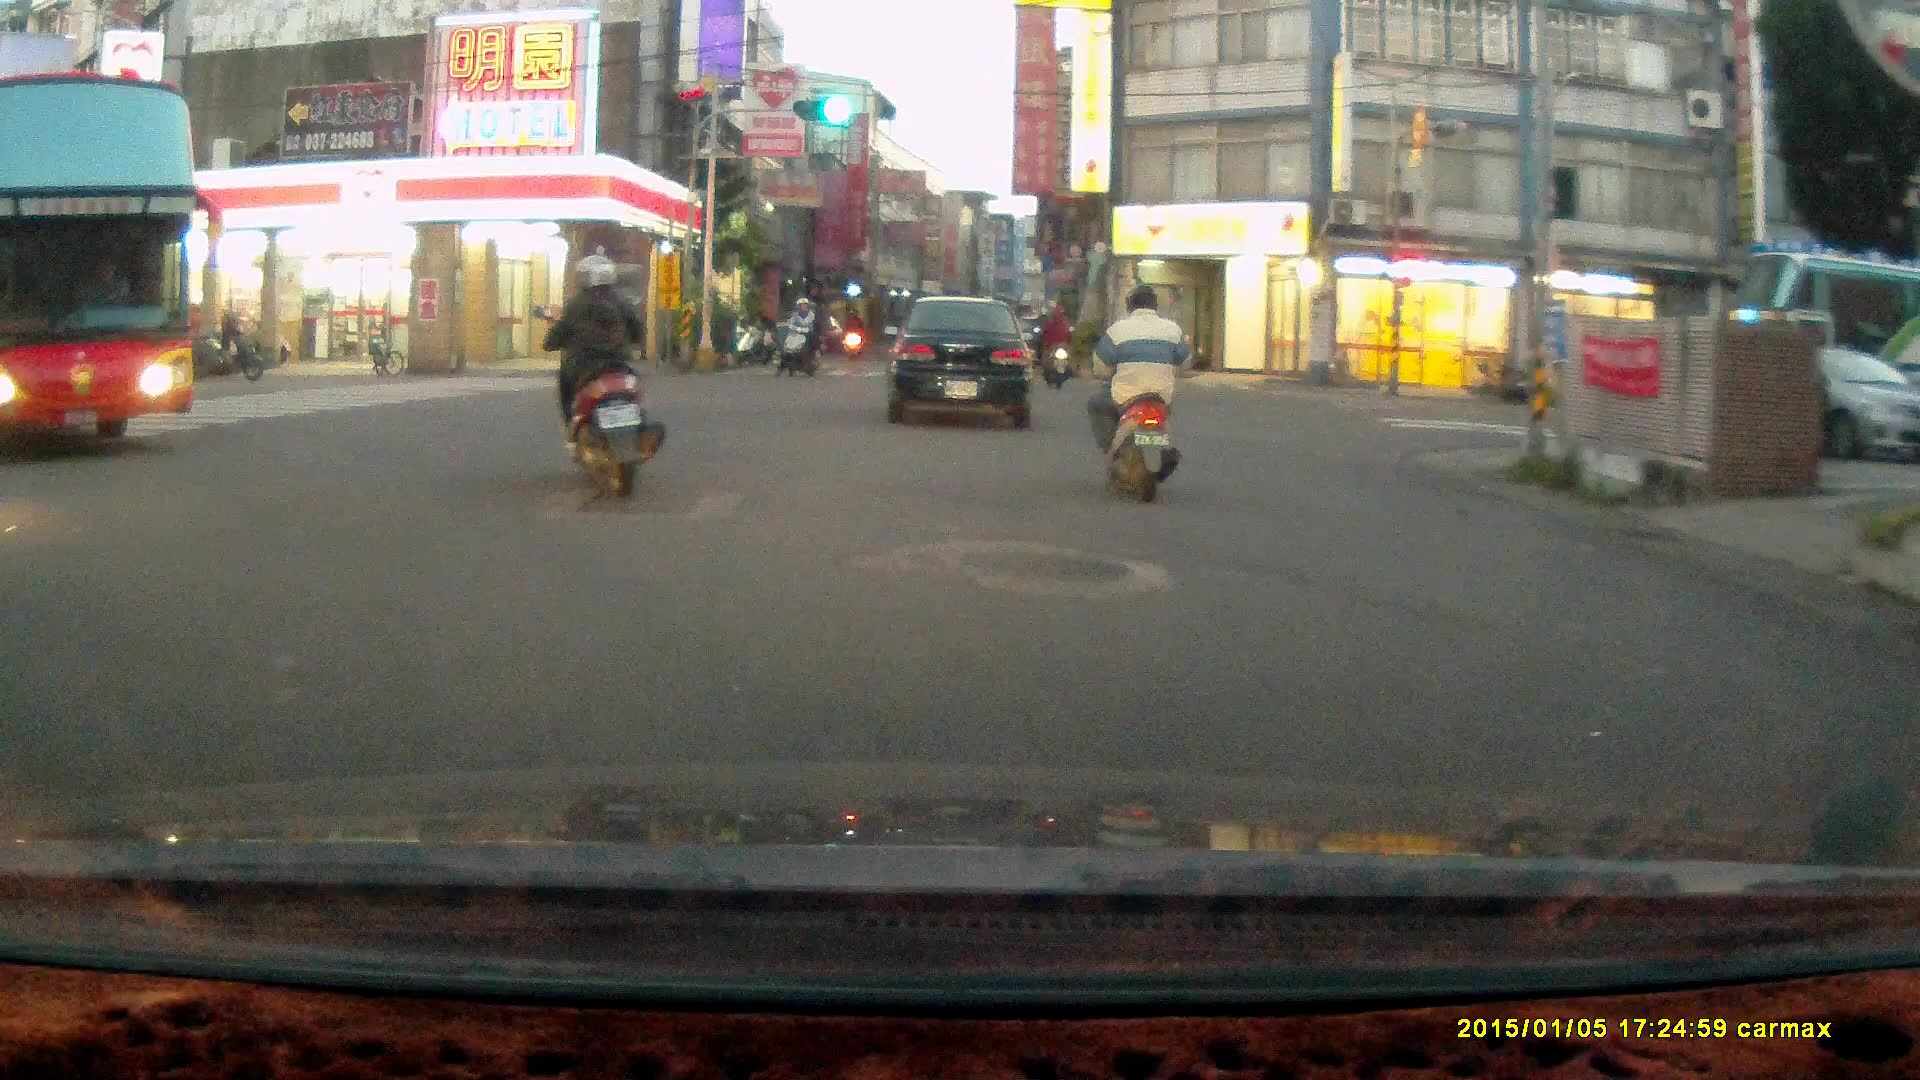rider: (536, 251, 670, 493), (1089, 282, 1194, 504), (778, 294, 826, 376), (1036, 297, 1075, 388)
vehicle: (1, 69, 197, 438), (1686, 338, 1920, 461), (892, 292, 1036, 430)
